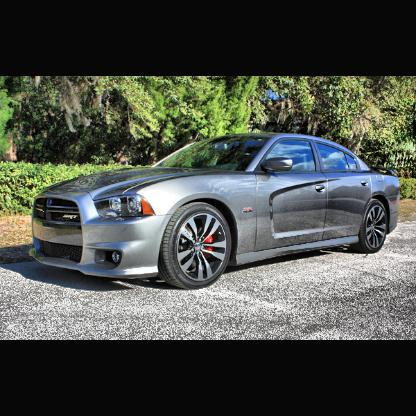Dodge Charger Sedan 2012: (29, 129, 406, 294)
